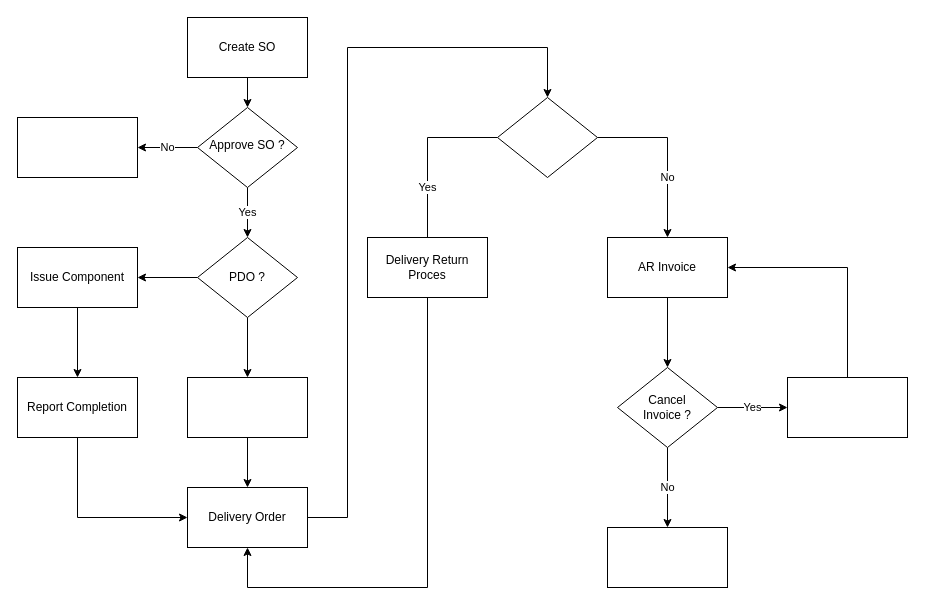
Image size: 925x613. Some labels were removed from this diagram. The shapes that lost their labels are listed below. From the top down, each one's centre as x and y in pixels, then its label:
[77,147]: End Process
[547,137]: Delivery Return ?
[247,407]: AR Down Payment
[847,407]: AR Credit Memo
[667,557]: Incoming Payment
